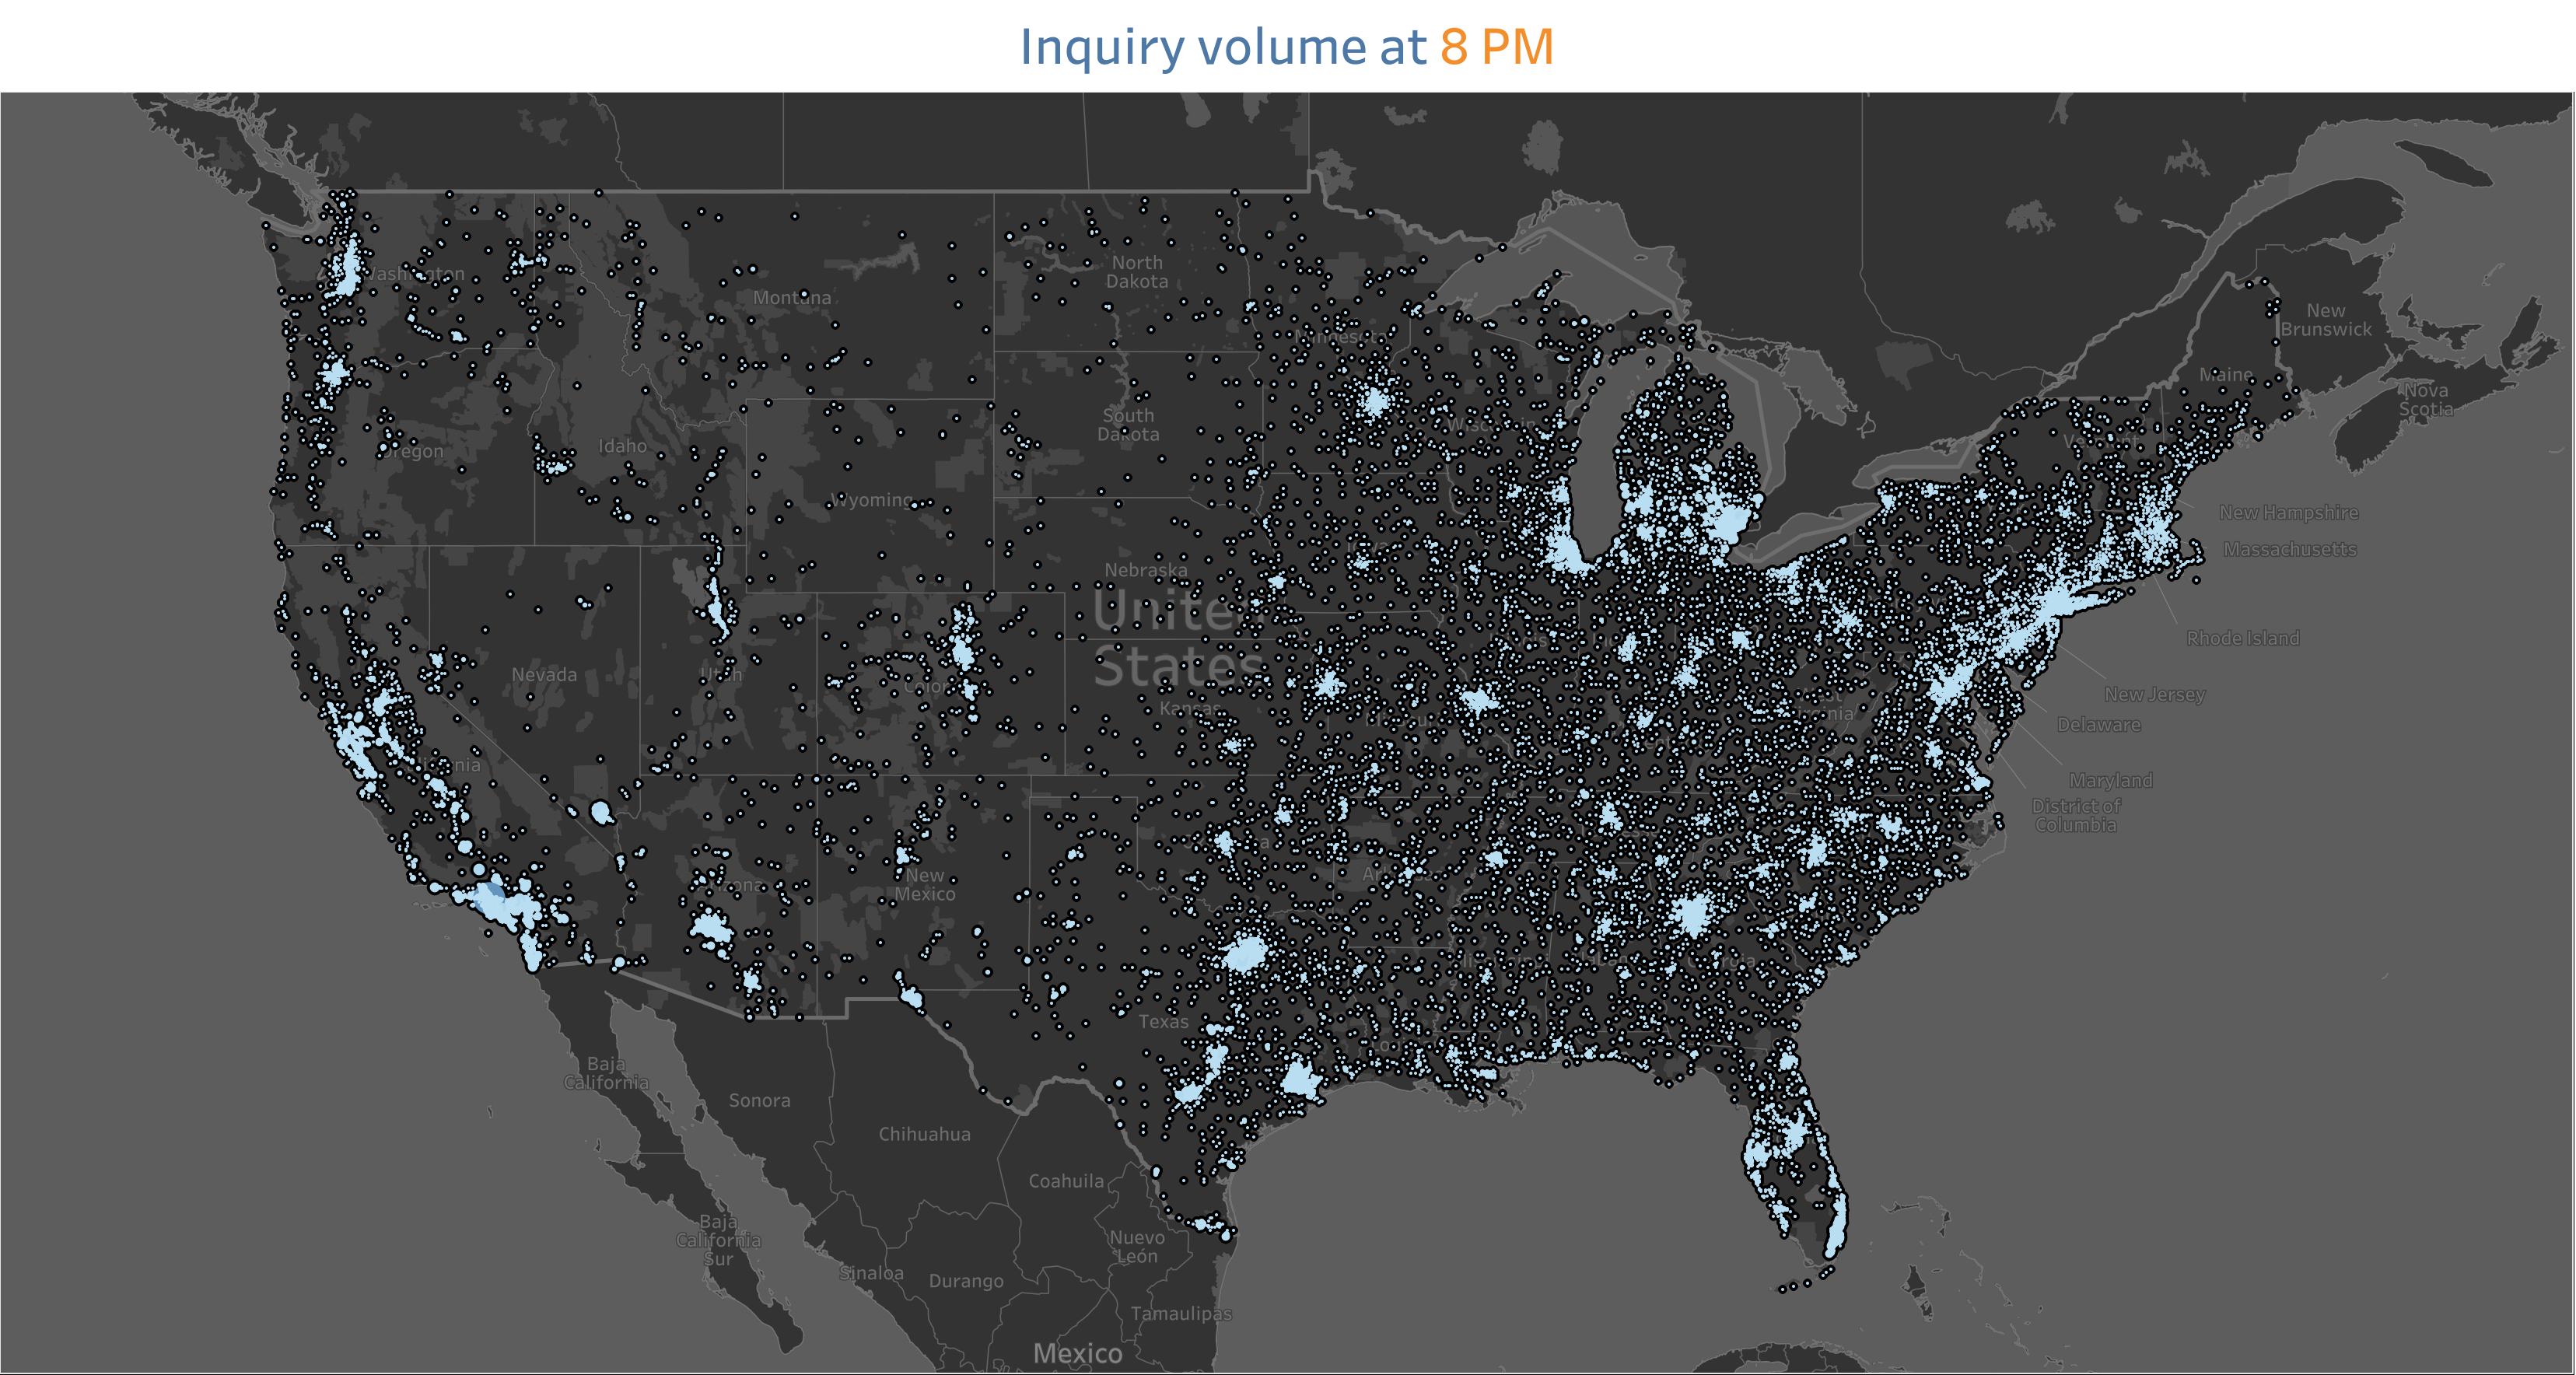

What the dashboard file says about the page in this screenshot:
{"tool":"tableau","page":{"name":"Dashboard 1","canvas":[1000,1000],"units":"permille","ordinal":0},"visuals":[{"type":"worksheet","title":"Sheet 1","mark":"Automatic","box":[4.7,8.8,990.6,982.3]},{"type":"currpage","title":"Sheet 1","box":[883,30.9,87.8,105]}]}

Visuals, with their boxes on the dashboard's canvas, which has no fixed pixel size, in thousandths of its width and height (x1, y1, x2, y2). These are canvas units, not pixel positions in the 2576x1375 screenshot, which may show the page scaled, cropped or inside an application window:
"Sheet 1" worksheet: left=5, top=9, right=995, bottom=991
"Sheet 1" currpage: left=883, top=31, right=971, bottom=136
